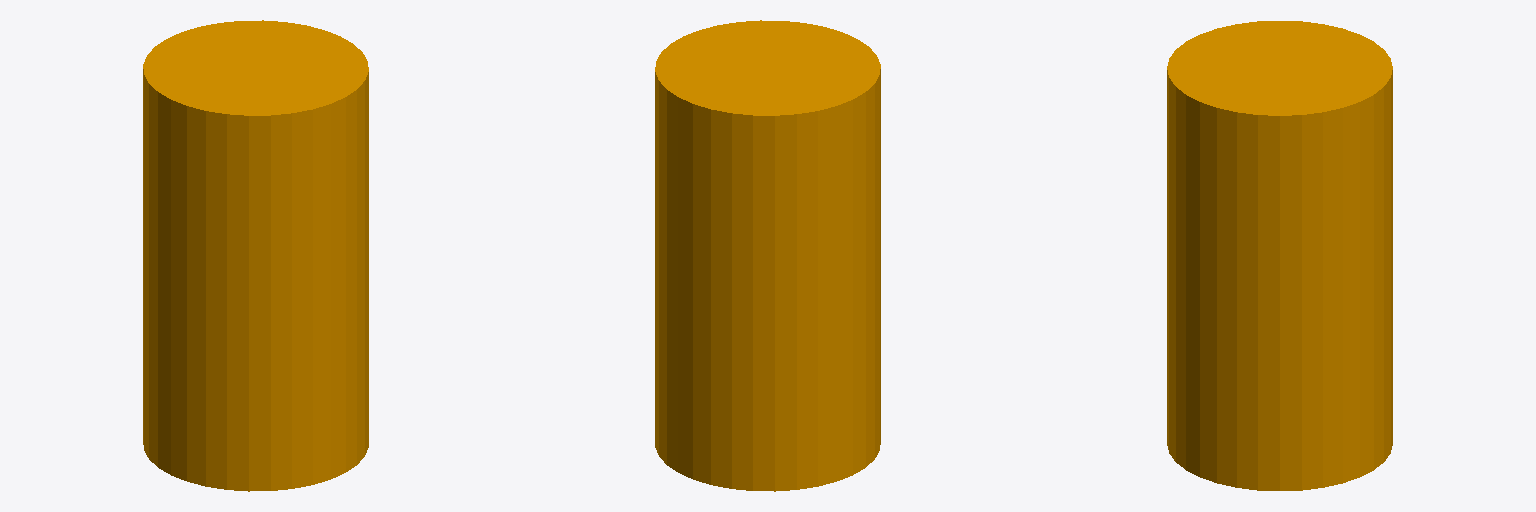
The robot description file, URDF, robot "coffee_jar":
<robot name="coffee_jar">
  <link name="base_link">
    <collision>
      <origin xyz="0.0 0.0 0.0825" />
      <geometry>
        <cylinder length="0.165" radius="0.045" />
      </geometry>
    </collision>
    <visual>
      <origin xyz="0.0 0.0 0.0825" />
      <material name="c">
        <color rgba="0.5 0.5 0.5 1.0 1.0" />
      </material>
      <geometry>
        <cylinder length="0.165" radius="0.045" />
      </geometry>
    </visual>
  </link>
</robot>

--- What the picture shows (computed from the rendered views, not written in the file) ---
Views: 3 orthographic renders of the robot side by side, from view 1: azimuth 30°, elevation 25°; view 2: azimuth 150°, elevation 25°; view 3: azimuth 270°, elevation 25°.
Model coffee_jar with 1 links and 0 joints (none), rooted at base_link, posed every joint at zero.
Links seen in each view (by area): view 1: base_link; view 2: base_link; view 3: base_link.
Link boxes in pixels (x1=…): base_link: x1=143, y1=20, x2=368, y2=491; base_link: x1=655, y1=20, x2=880, y2=491; base_link: x1=1167, y1=21, x2=1392, y2=490.
Bounding box of the posed robot: 0.09 × 0.09 × 0.165 m (x, y, z).
Geometry: primitives only (box / cylinder / sphere), no mesh files.